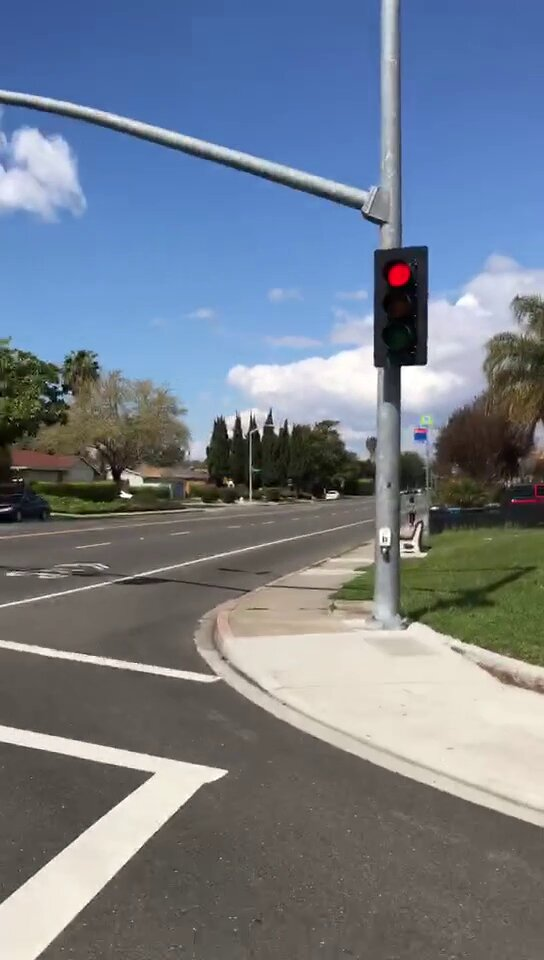red_light: (375, 249, 426, 361)
